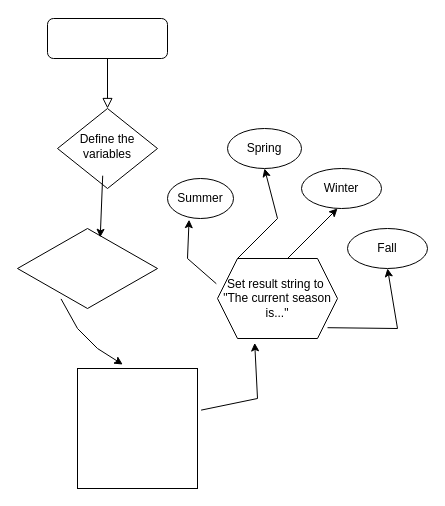
This 445x506 diagram has some shape labels left out. The shapes that lost their labels are listed below. From the top down, each one's box as (x1, y1, x2, y2) in pixels, then its label:
(46, 18, 168, 58): Create "What month is it? (1-12)" Welcome message
(16, 228, 158, 308): Promt user for hit target
(76, 368, 198, 488): Write if, elif and else for all of the seasons and their numbers
